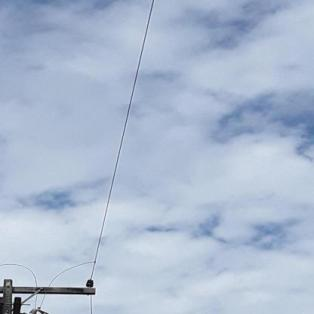Poste: (0, 268, 30, 314)
